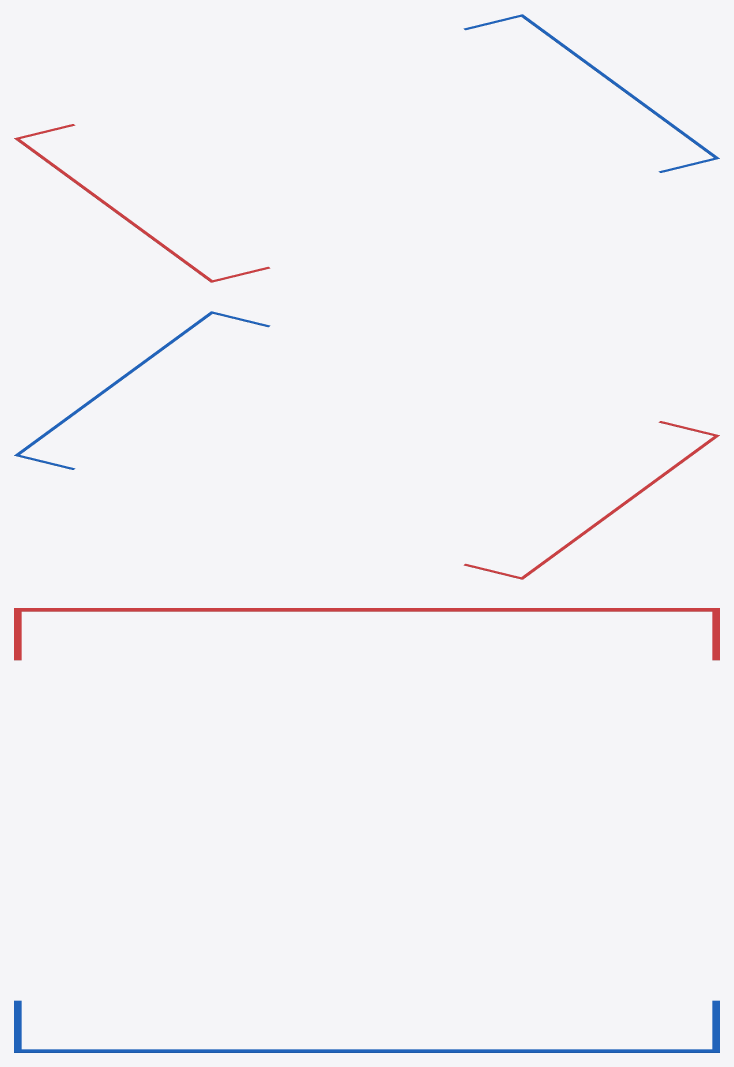
3 views of the same model, one above another, from view 1: azimuth 30°, elevation 25°; view 2: azimuth 150°, elevation 25°; view 3: azimuth 270°, elevation 25° (orthographic). The views are drawn at different scales.
Size of the model in its own units: 139 by 0.05 by 93.44.
2 materials, 2 textured.
